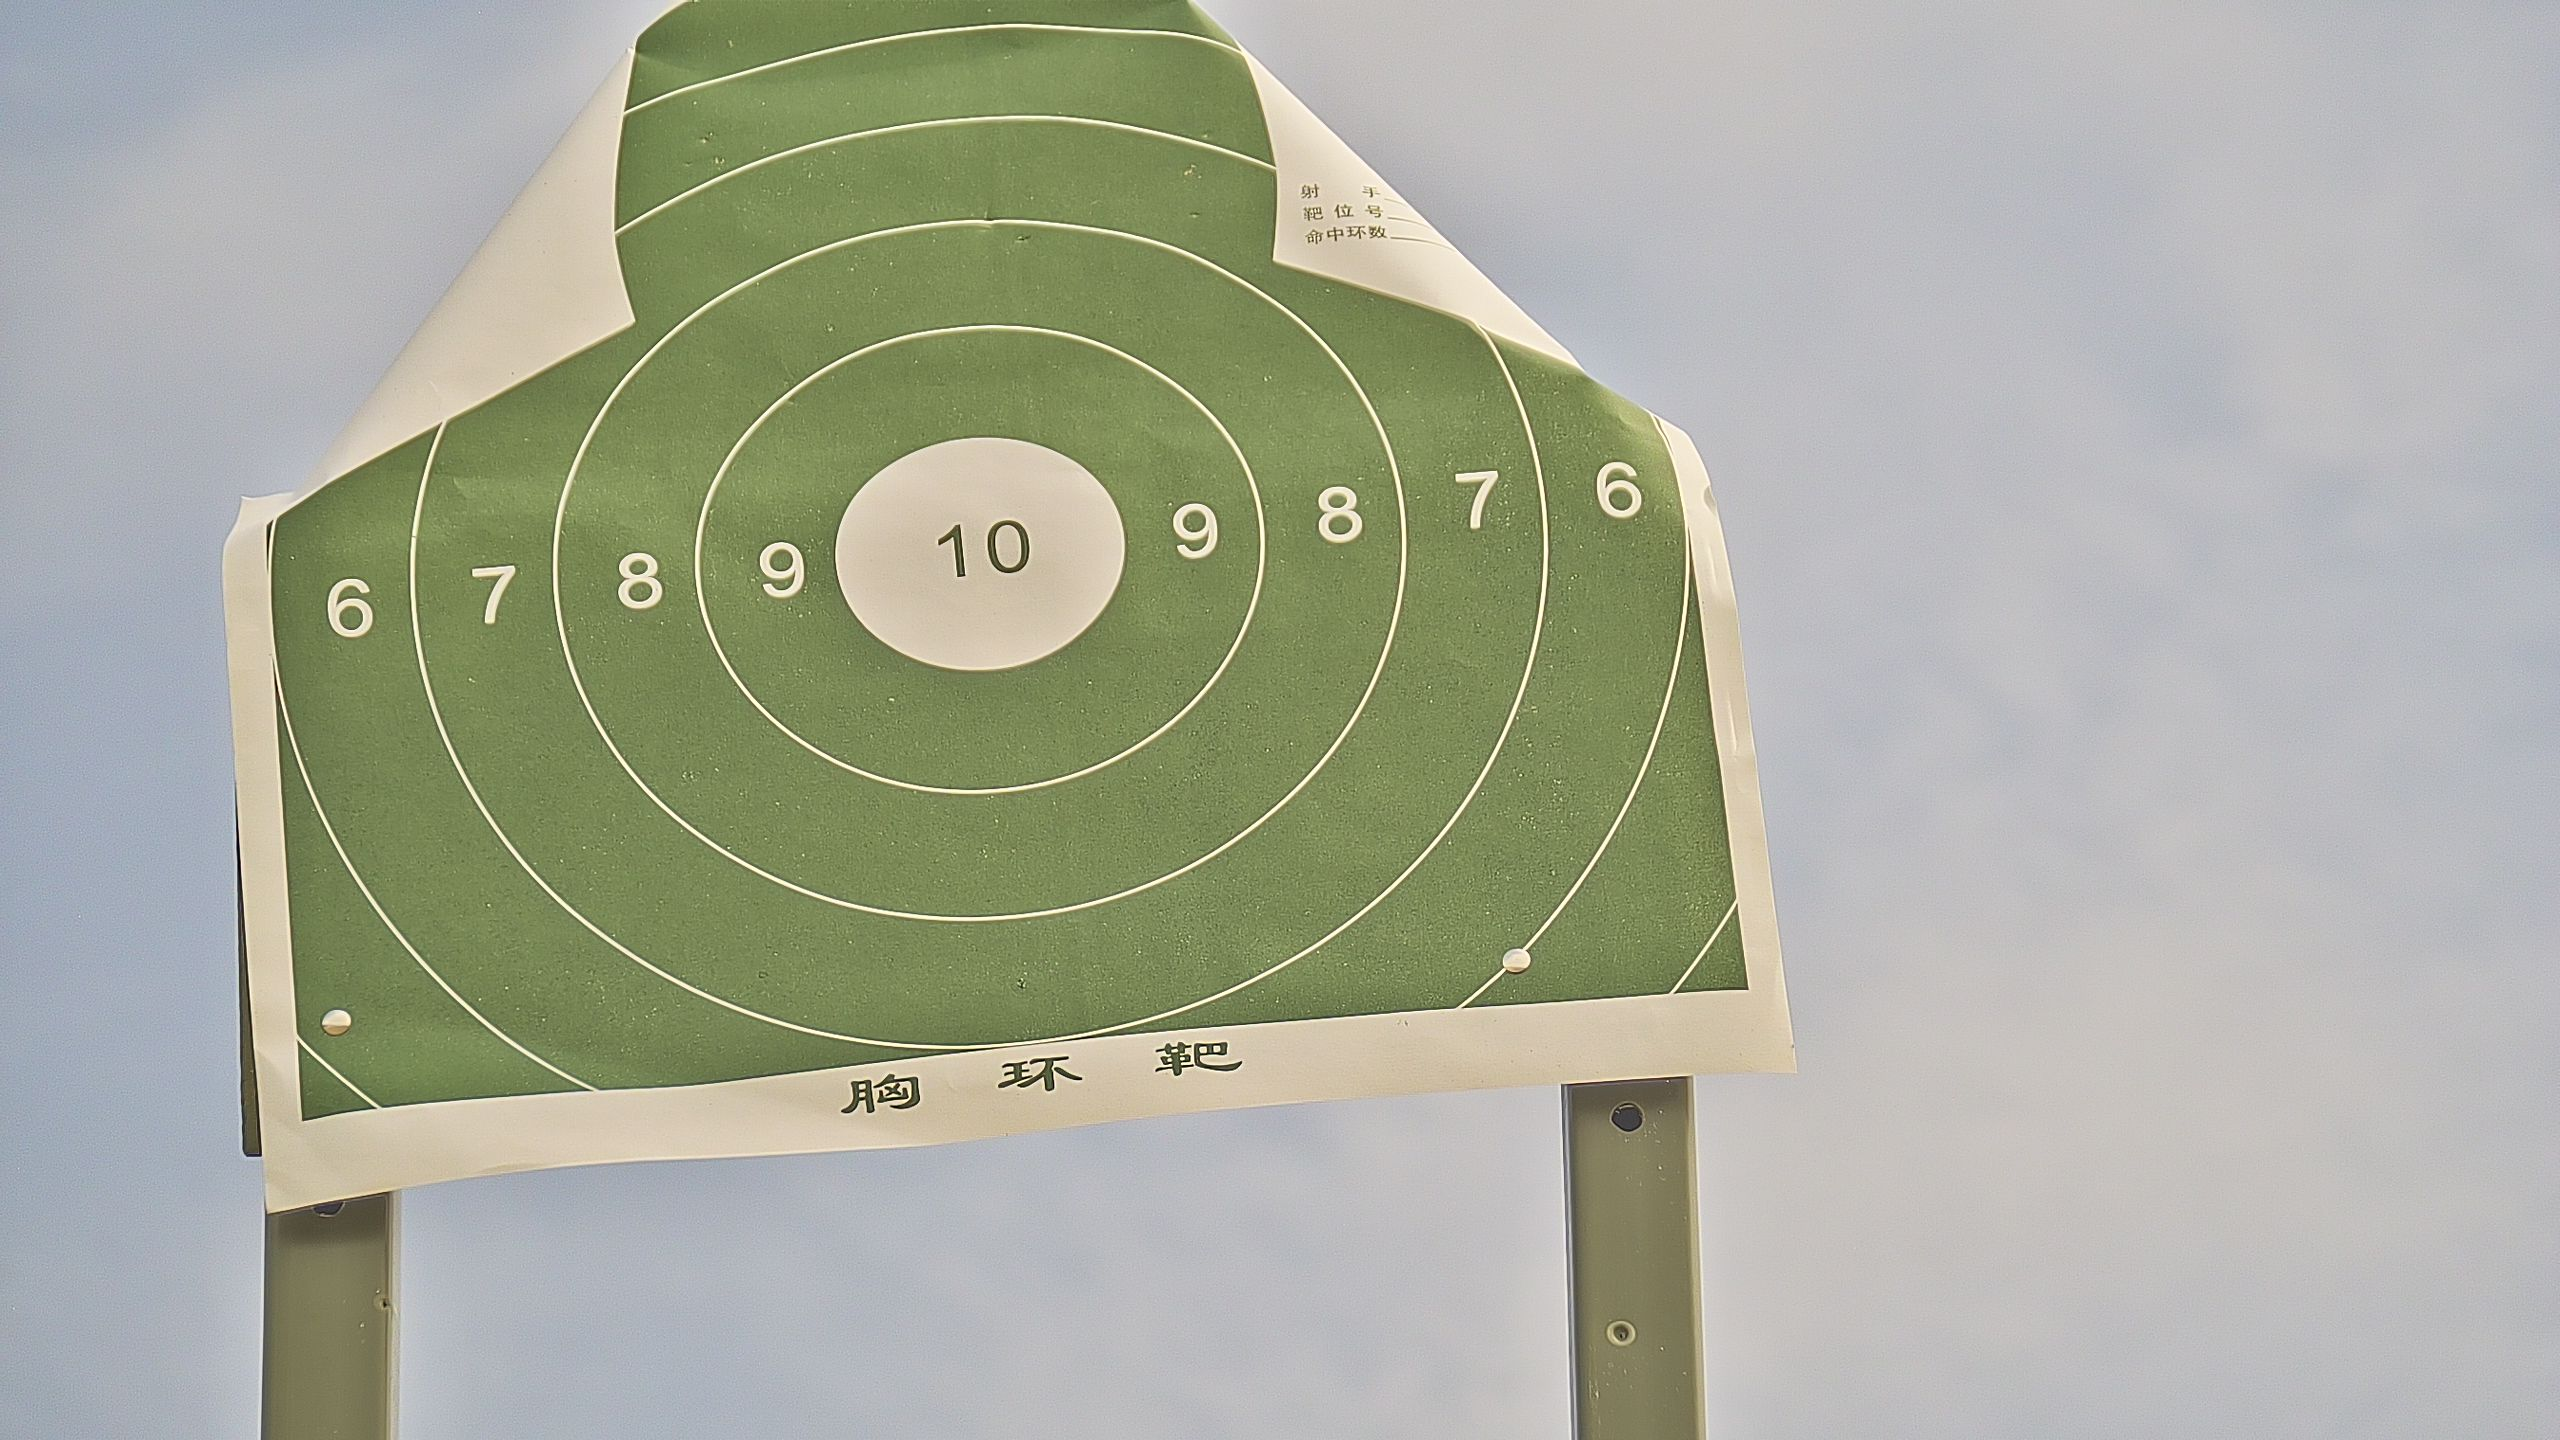kernel: (972, 547, 976, 549)
target: (267, 2, 1751, 1116)
ten: (837, 434, 1127, 672)
